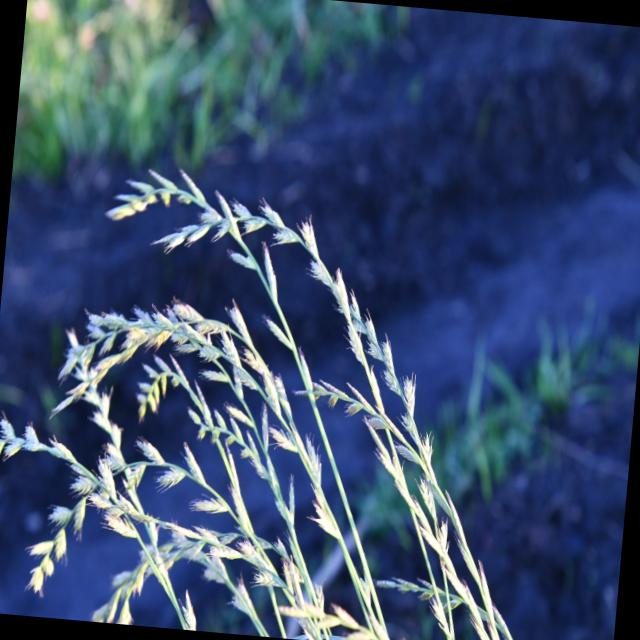Lolium: (0, 151, 570, 640), (73, 155, 497, 640), (33, 289, 405, 640), (27, 431, 341, 640), (38, 323, 216, 628), (0, 414, 206, 629), (94, 514, 322, 640), (504, 409, 514, 416)
